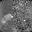people: (1, 14, 13, 24)
